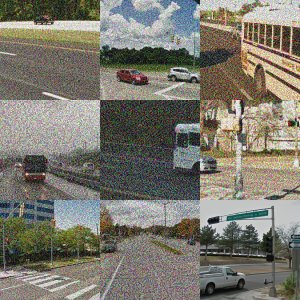公車: (40, 20, 100, 100), (200, 137, 263, 186), (217, 233, 300, 268)
汽車: (201, 55, 248, 98), (208, 43, 272, 71), (125, 62, 171, 85), (1, 43, 29, 68), (151, 285, 190, 300)
